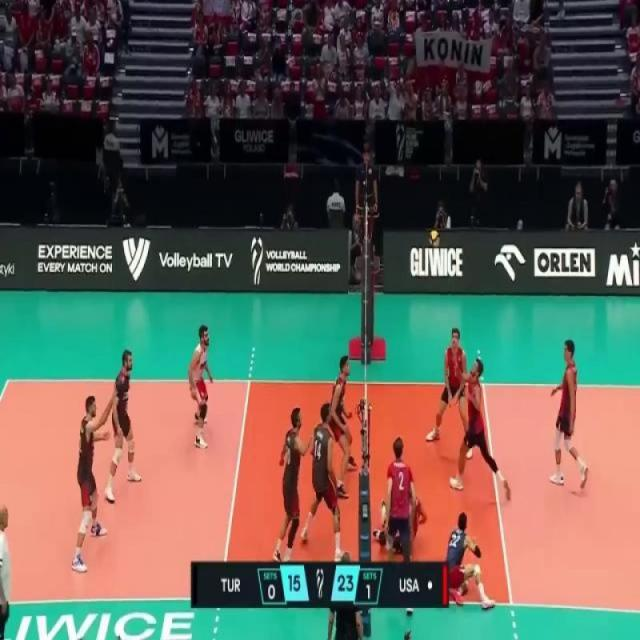volleyball: (426, 226, 442, 250)
